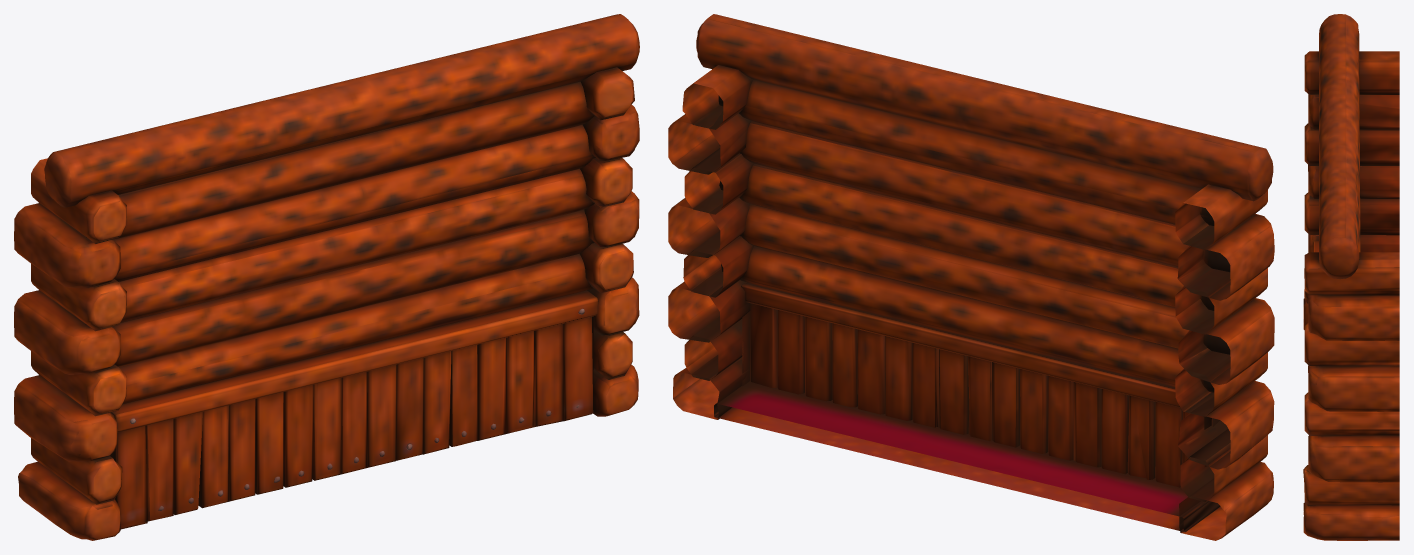
Rendered from HK_wall_interior.glb.
3 views of the same model, side by side, from view 1: azimuth 30°, elevation 25°; view 2: azimuth 150°, elevation 25°; view 3: azimuth 270°, elevation 25° (orthographic). The views are drawn at different scales.
Parts seen in each view (by area): view 1: geometry_0; view 2: geometry_0; view 3: geometry_0.
Part boxes in pixels (left/top/right/bottom): geometry_0: left=14, top=14, right=639, bottom=540; geometry_0: left=668, top=14, right=1274, bottom=540; geometry_0: left=1303, top=14, right=1399, bottom=540.
Bounding box in the file's own units: 0.9556 × 0.5962 × 0.17.
1 material, 1 textured.
